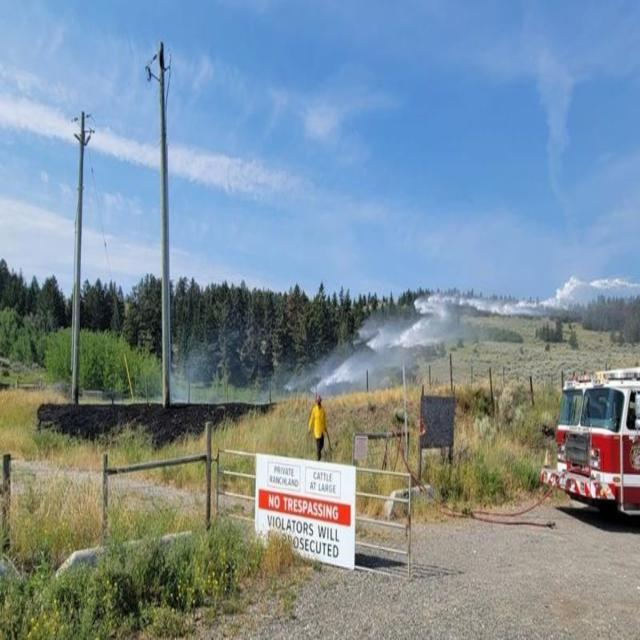Smoke: (354, 282, 524, 369)
